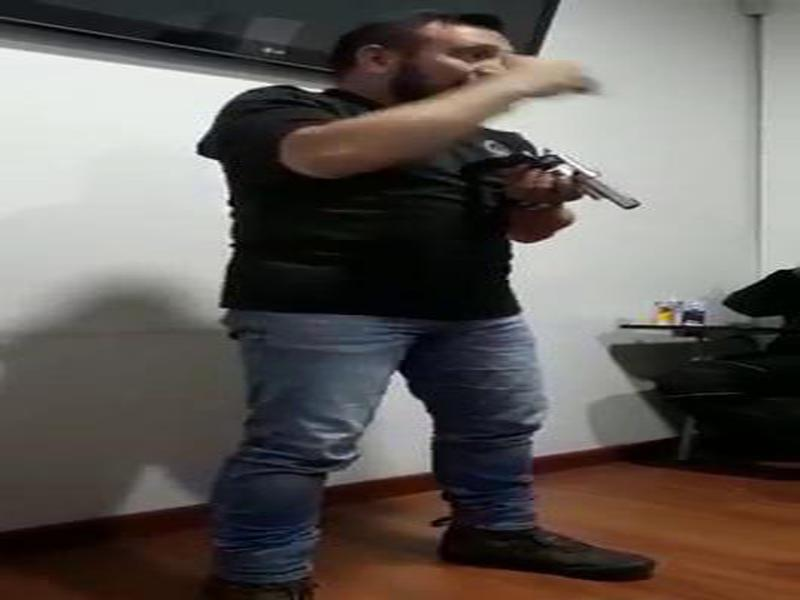Revolver: (458, 122, 659, 250)
